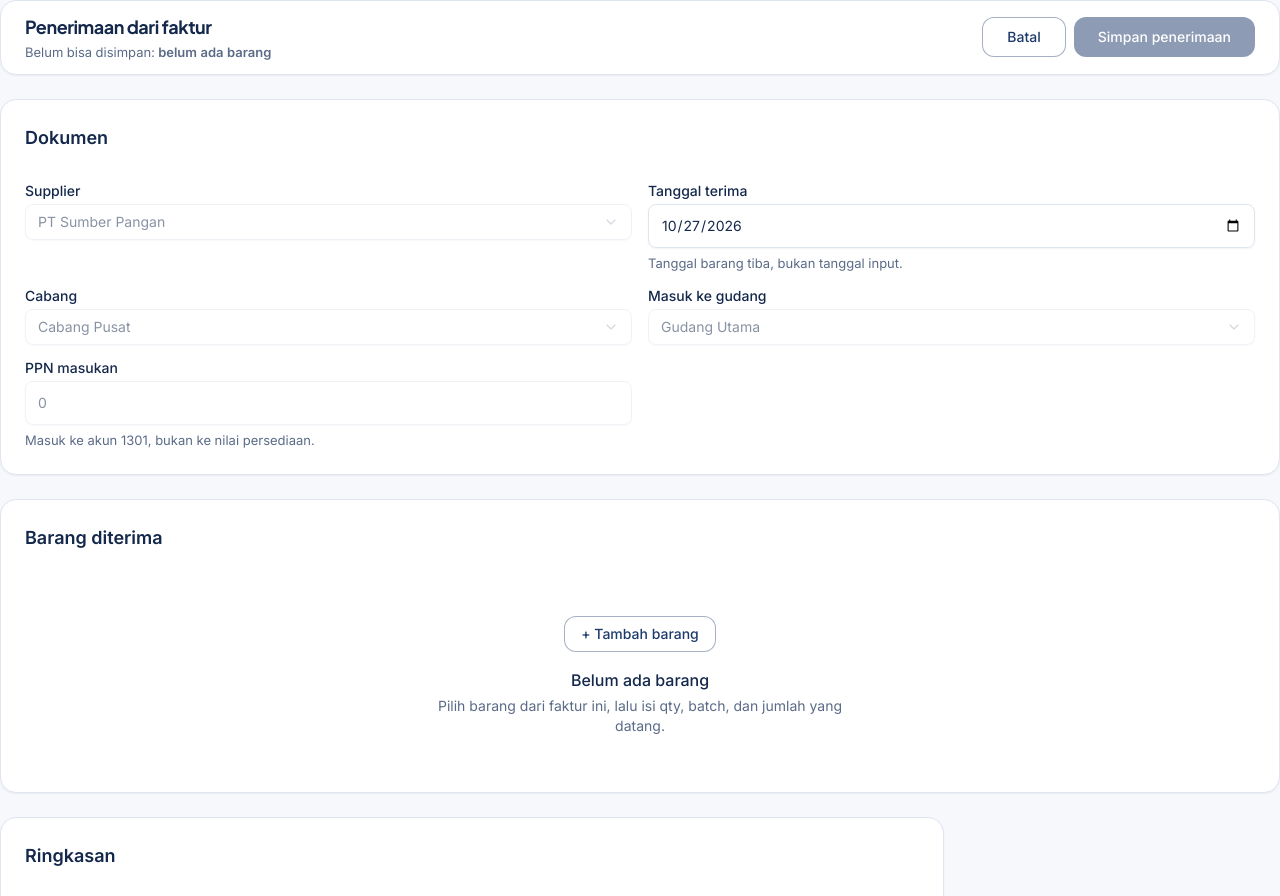
Scenario: ReceiptForm — from a supplier invoice › puts a picked line on the form with the rest of the line as its qty
Step 1. Click the button "+ Tambah barang" → (640, 634), box [564,616,716,652]
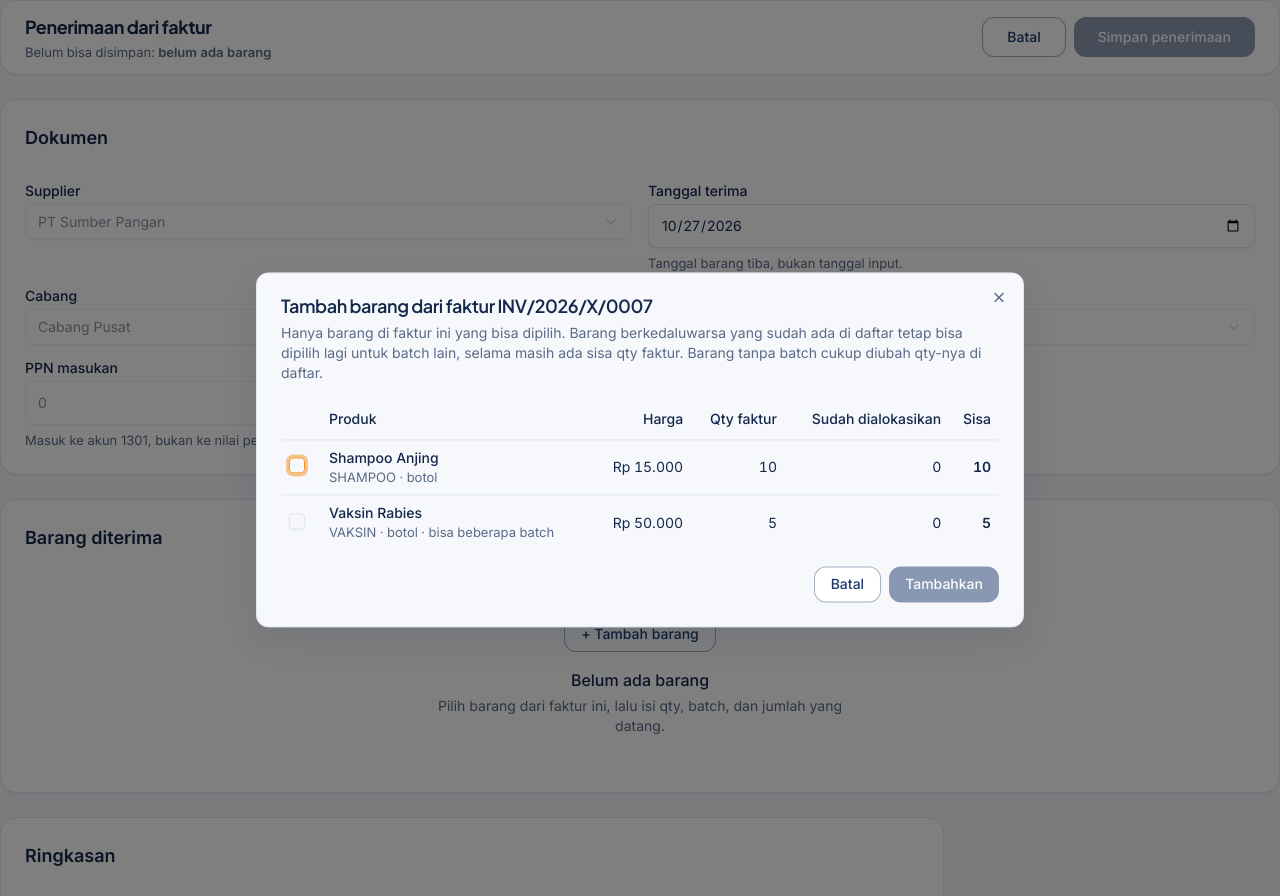
Step 2. Click the checkbox named "Pilih Shampoo Anjing" → (297, 465), box [289,457,305,473]
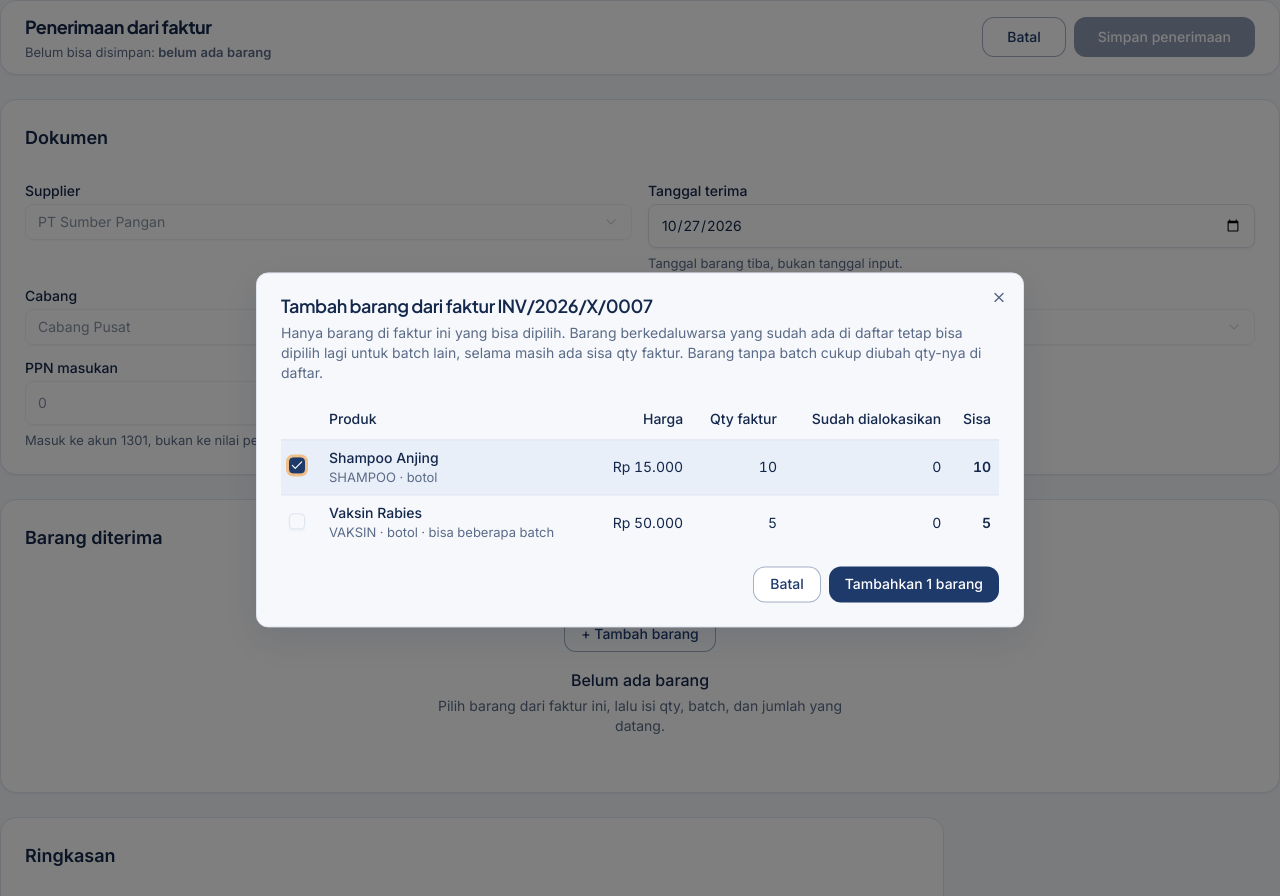
Step 3. Click the button "Tambahkan 1 barang" → (914, 585), box [829,567,999,603]
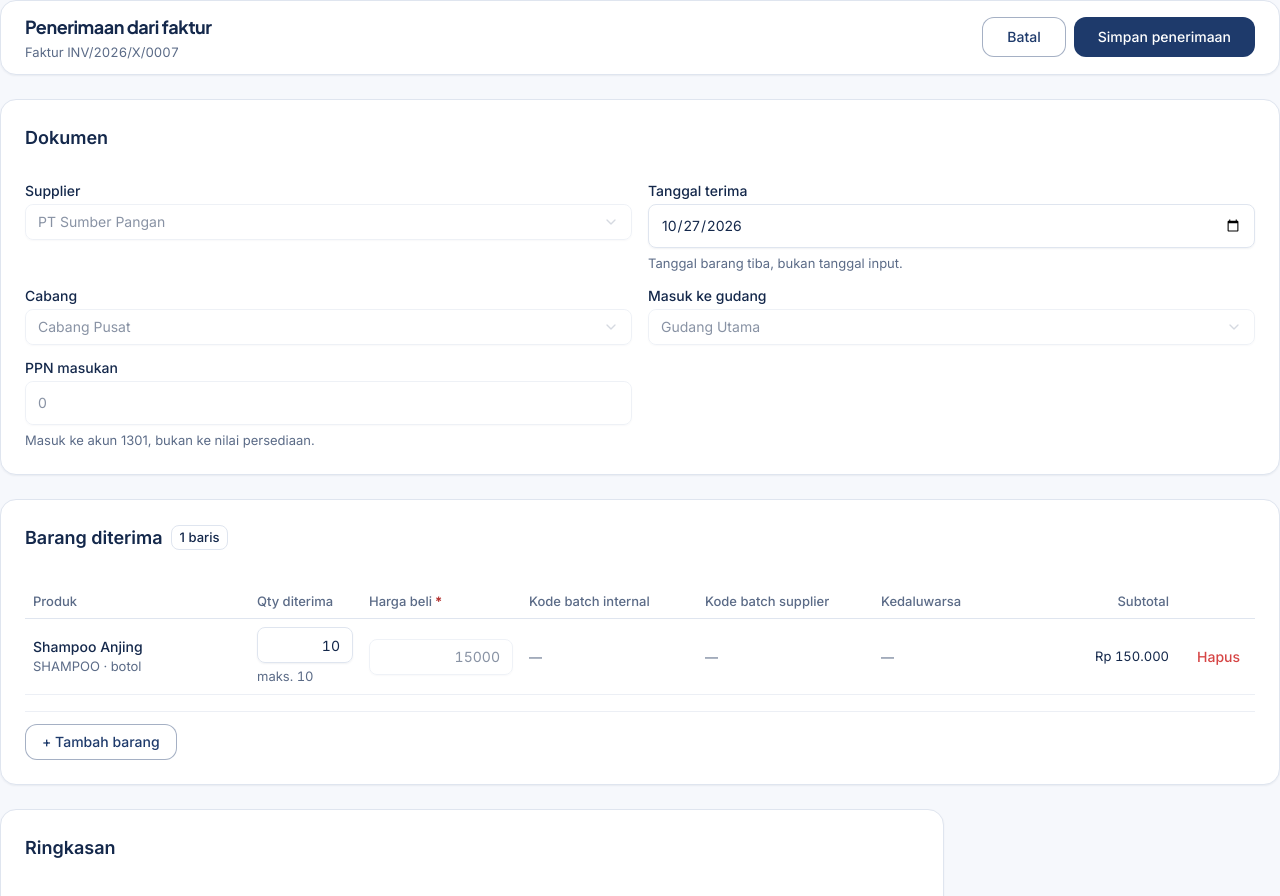
Expected: the field named "Qty Shampoo Anjing" holds "10", [257,627,353,663]
Expected: the field named "Qty Shampoo Anjing" is enabled, [257,627,353,663]
Expected: the field named "Harga Shampoo Anjing" holds "15000", [369,639,513,675]
